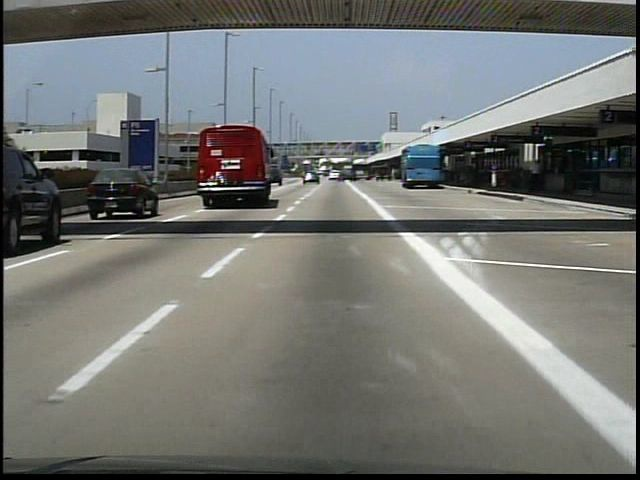person: (529, 157, 544, 193)
